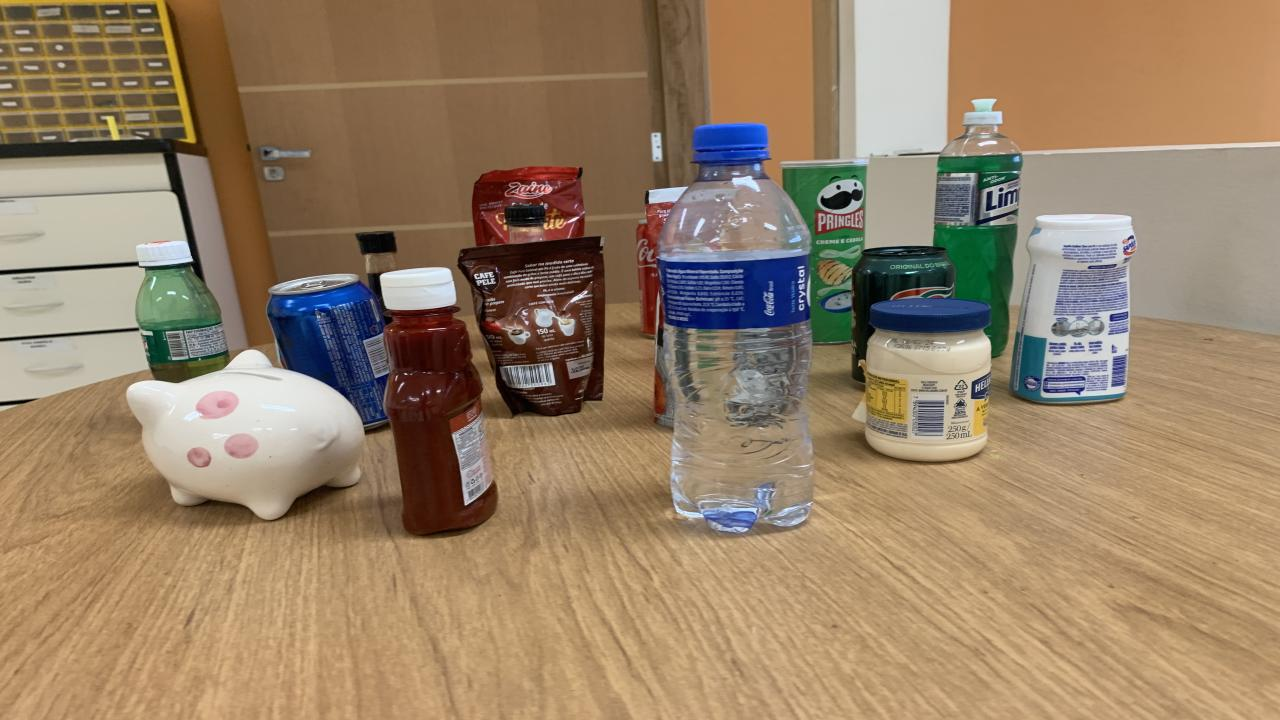Cleaner-Cleanup_Items: (1010, 214, 1135, 403)
Coffee-Pantry_Items: (458, 236, 605, 416)
Coke-Drinks: (635, 227, 658, 336)
Detergent-Cleanup_Items: (932, 98, 1022, 356)
English_Sauce-Pantry_Items: (355, 231, 398, 311)
Guarana-Drinks: (135, 242, 230, 382)
Guarana_Can-Drinks: (852, 246, 955, 381)
Ketchup-Pantry_Items: (380, 268, 498, 534)
Mayonnaise-Pantry_Items: (862, 298, 990, 461)
Pig_Safe-Miscellaneous: (128, 351, 362, 519)
Pringles-Snacks: (780, 158, 868, 343), (982, 240, 988, 244)
Soda-Drinks: (505, 204, 545, 244)
Tomato_Sauce-Pantry_Items: (472, 167, 585, 246), (642, 188, 688, 249), (270, 405, 278, 409)
Tonic-Drinks: (268, 274, 390, 429)
Water_Bottle-Drinks: (658, 126, 812, 532)
